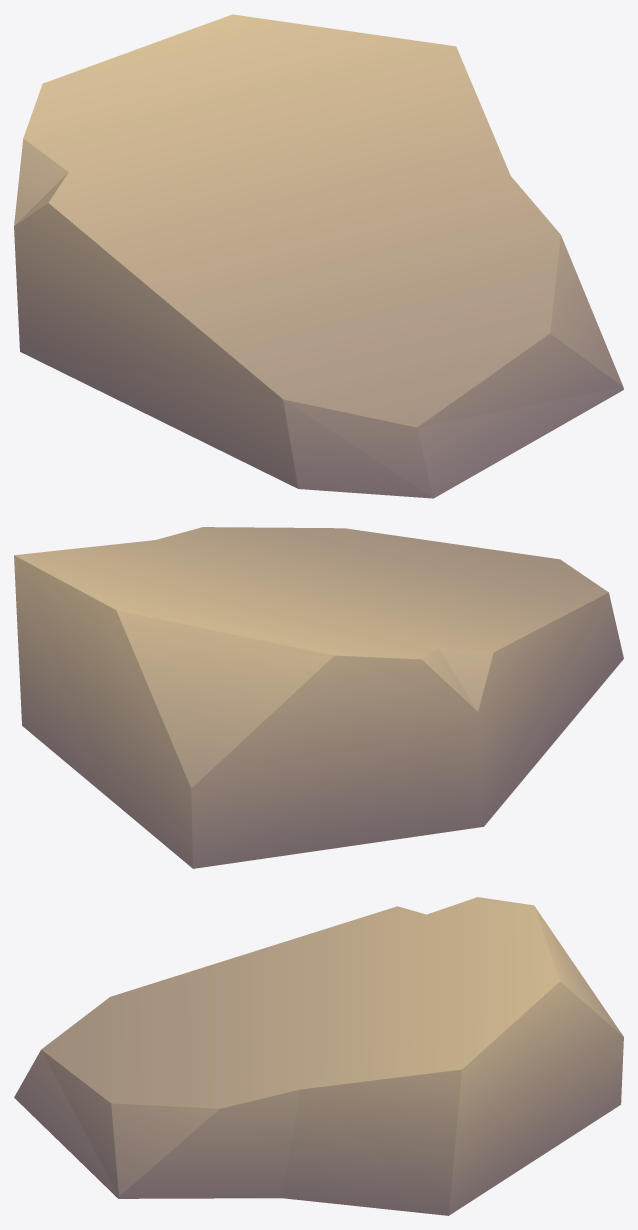
File: rock-4.glb
3 renders of one model, top to bottom at view 1: azimuth 30°, elevation 25°; view 2: azimuth 150°, elevation 25°; view 3: azimuth 270°, elevation 25°, orthographic. The views are drawn at different scales.
Parts seen in each view (by area): view 1: Rock4; view 2: Rock4; view 3: Rock4.
Part boxes in pixels (bbox=[...]): Rock4: bbox=[14, 14, 623, 498]; Rock4: bbox=[14, 527, 623, 868]; Rock4: bbox=[14, 897, 623, 1215].
Bounding box in the file's own units: 1.64 × 0.7122 × 2.33.
Materials: 1 (1 with a texture image).
